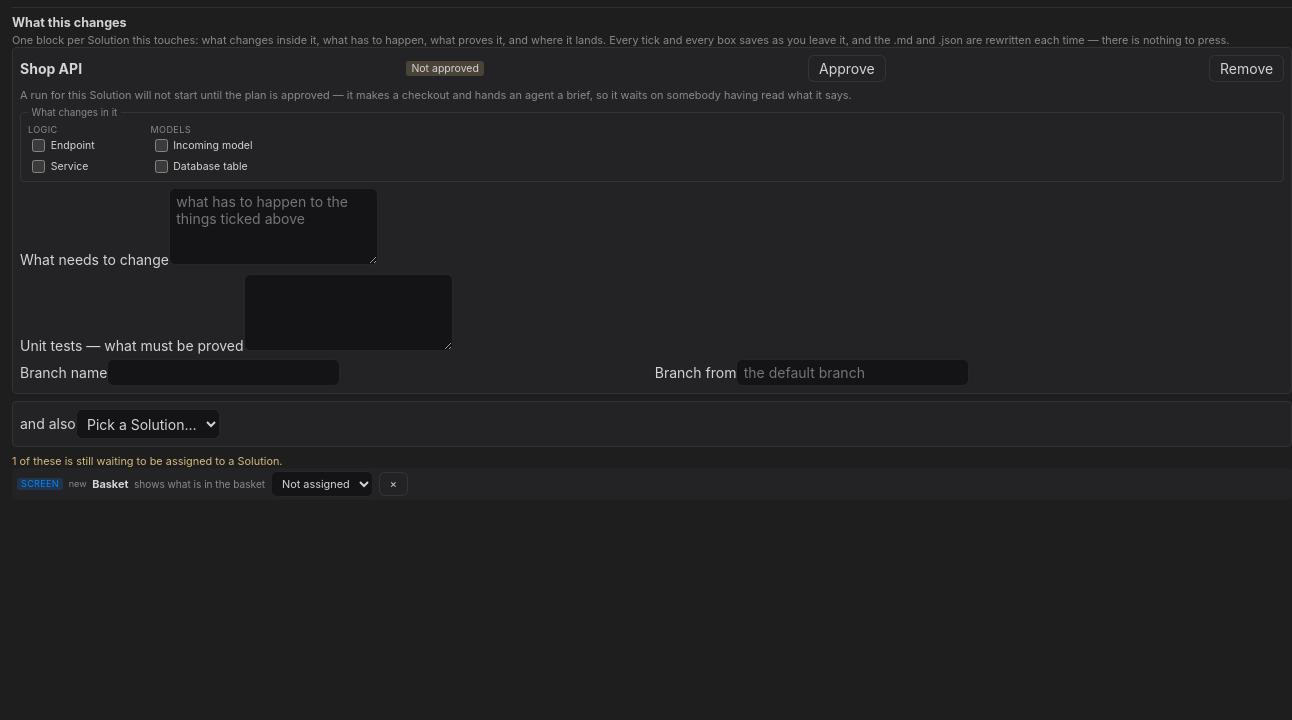
it: WorkItemChanges — the developer's half › surfaces the backend's refusal when the type does not match
The image size is (1292, 720).
Select "Shop API" in the dropdown named "Solution for Basket": (322,484) [271,471,373,497]
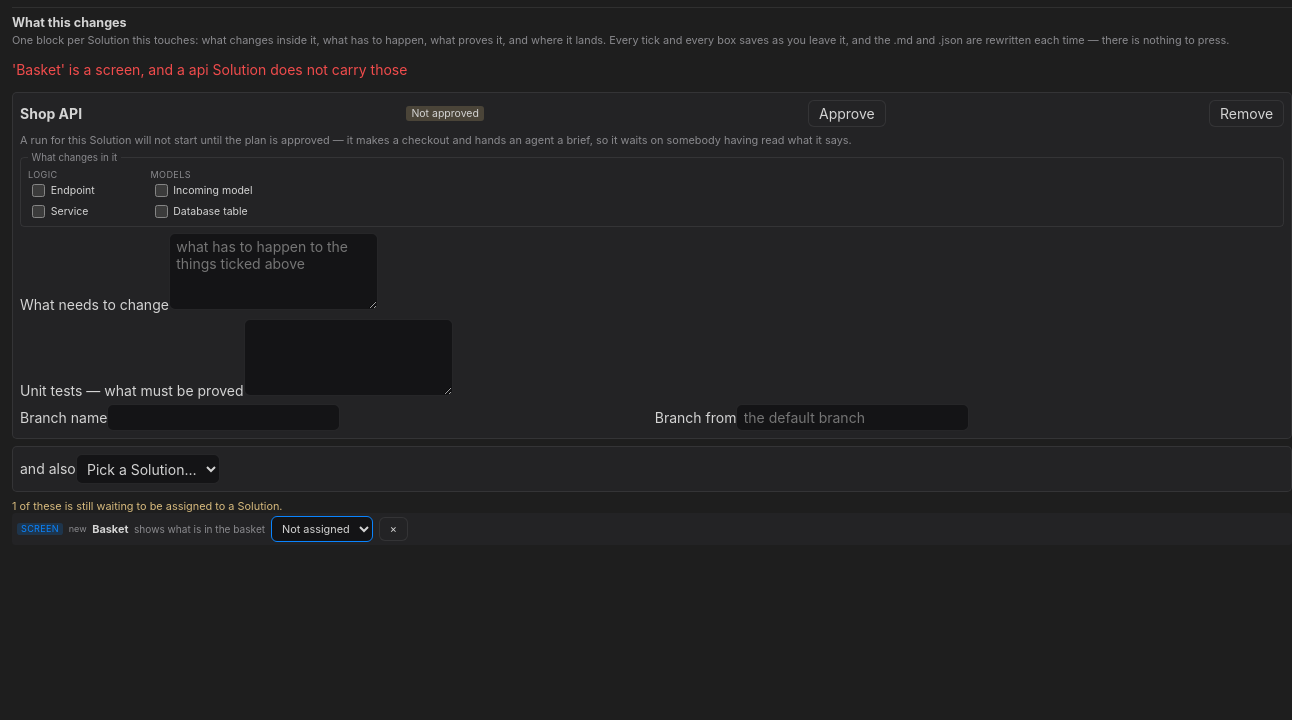
Now the message shows "does not carry those", box [12,61,407,78]
